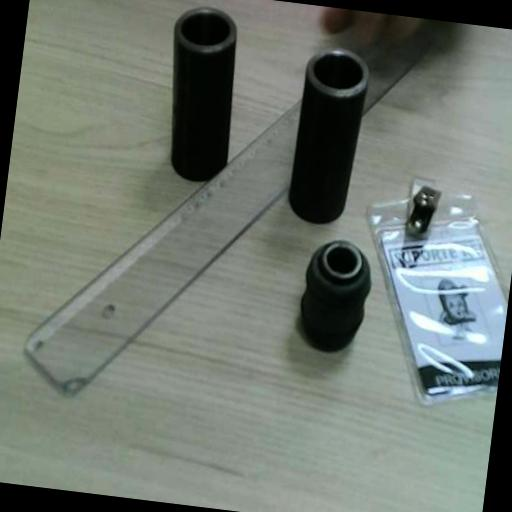peca: (289, 48, 368, 222), (171, 8, 236, 179), (300, 239, 370, 351)
